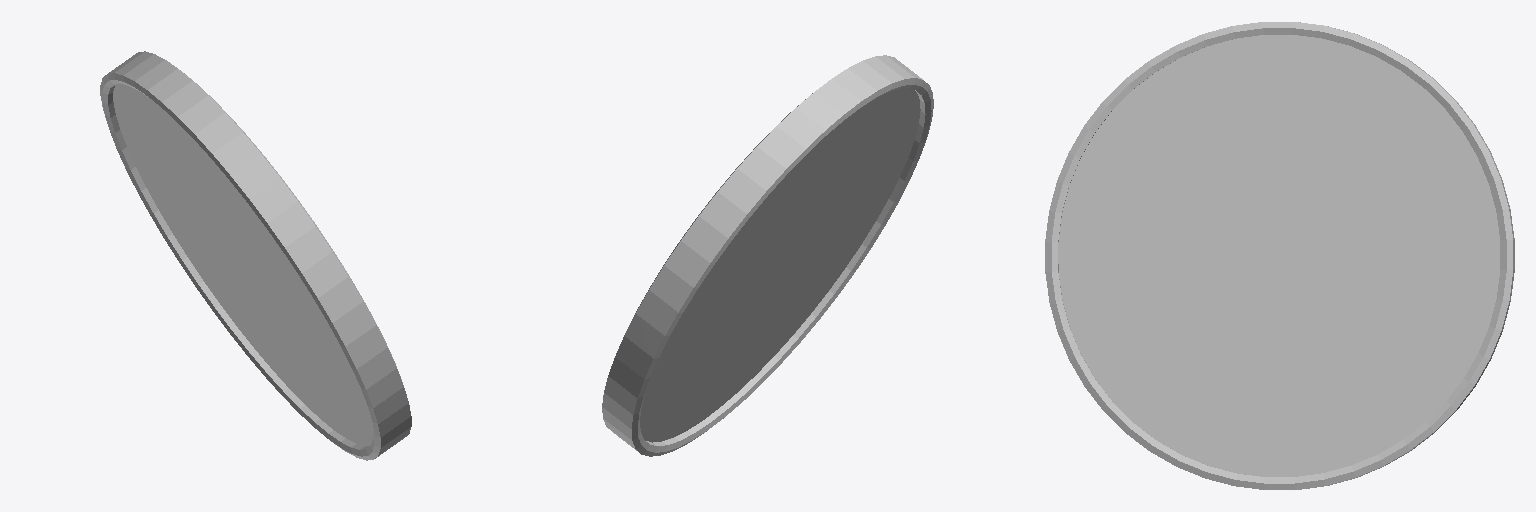
Rendered from GoldCoinBlank.obj.
3 renders of one model, left to right at view 1: azimuth 30°, elevation 25°; view 2: azimuth 150°, elevation 25°; view 3: azimuth 270°, elevation 25°, orthographic.
Visible parts, largest first — view 1: GoldCoinBlank; view 2: GoldCoinBlank; view 3: GoldCoinBlank.
Part boxes in pixels (bbox=[...]): GoldCoinBlank: bbox=[100, 51, 411, 460]; GoldCoinBlank: bbox=[602, 55, 933, 456]; GoldCoinBlank: bbox=[1045, 22, 1514, 489].
Size of the model in its own units: 0.711 by 1.33 by 1.42.